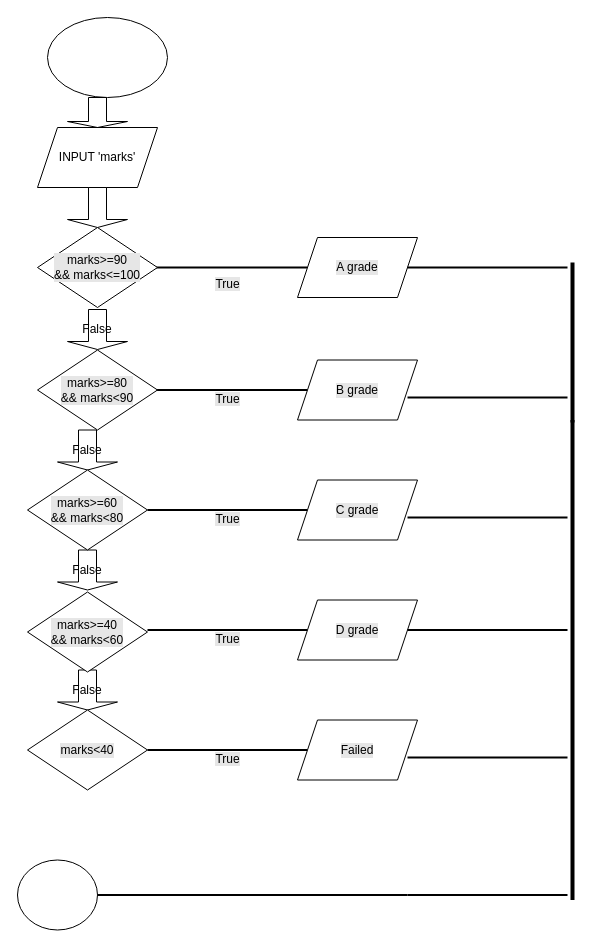
This 597x948 diagram has some shape labels left out. Here are the shapes that lost their labels. From the top down, the box of each, then its label:
(46, 16, 168, 98): start
(16, 859, 98, 930): Stop
